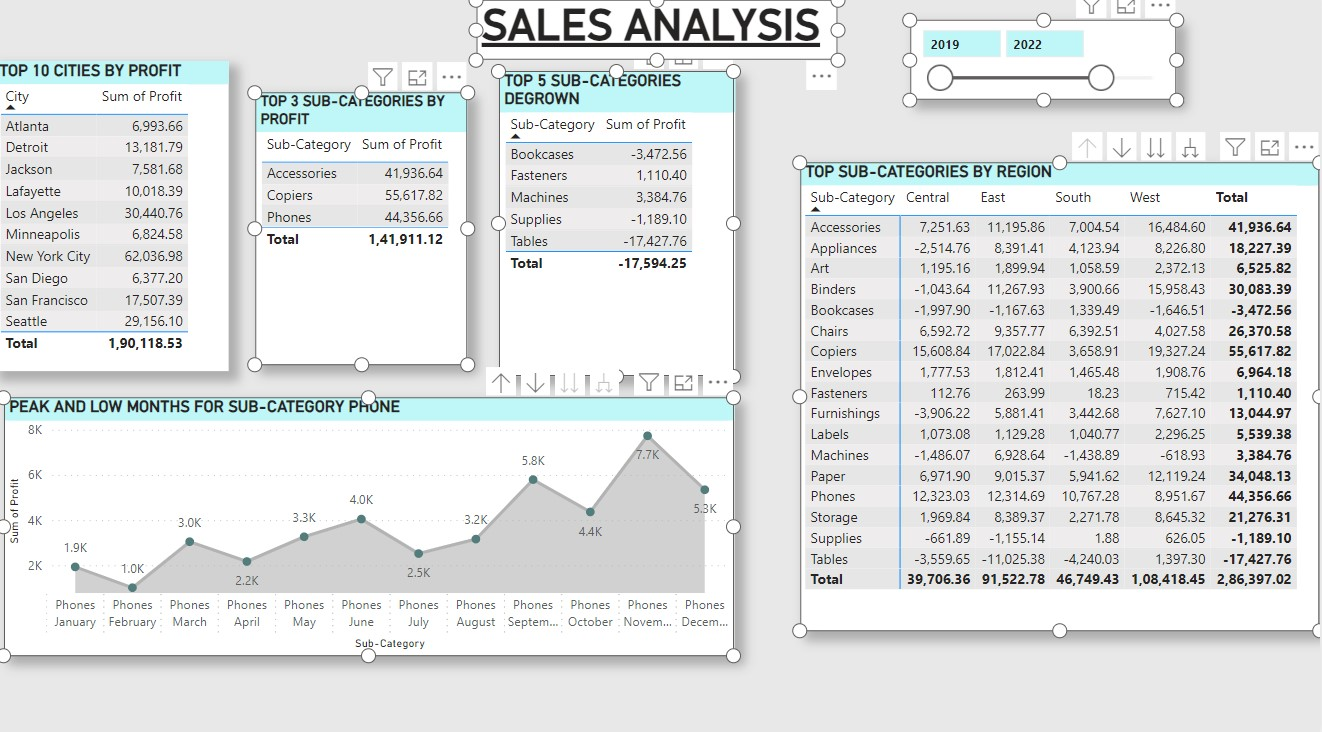

What the dashboard file says about the page in this screenshot:
{"tool":"powerbi","page":{"name":"Page 1","canvas":[1280,720],"ordinal":0},"visuals":[{"type":"slicer","fields":{"Values":["Monthly Sales Data.Order Date.Variation.Date Hierarchy.Year"]},"box":[884.4,27.8,256.7,76.7],"z":0},{"type":"tableEx","title":"TOP 10 CITIES BY PROFIT","fields":{"Values":["Monthly Sales Data.City","Sum(Monthly Sales Data.Profit)"]},"box":[0,67.8,226.7,298.9],"z":1000},{"type":"tableEx","title":"TOP 3 SUB-CATEGORIES BY PROFIT","fields":{"Values":["Monthly Sales Data.Sub-Category","Sum(Monthly Sales Data.Profit)"]},"box":[252.2,97.8,204.4,262.2],"z":2000},{"type":"tableEx","title":"TOP 5 SUB-CATEGORIES DEGROWN","fields":{"Values":["Monthly Sales Data.Sub-Category","Sum(Monthly Sales Data.Profit)"]},"box":[486.7,76.7,227.8,294.4],"z":3000},{"type":"areaChart","title":"PEAK AND LOW MONTHS FOR SUB-CATEGORY PHONE","fields":{"Y":["Sum(Monthly Sales Data.Profit)"],"Category":["Monthly Sales Data.Order Date.Variation.Date Hierarchy.Month","Monthly Sales Data.Sub-Category"]},"box":[10,392.2,704.4,248.9],"z":4000},{"type":"pivotTable","title":"TOP SUB-CATEGORIES BY REGION","fields":{"Rows":["Monthly Sales Data.Sub-Category"],"Columns":["Monthly Sales Data.Region","Monthly Sales Data.Profit"],"Values":["Sum(Monthly Sales Data.Profit)"]},"box":[777.9,165.2,501.7,452.3],"z":5000},{"type":"textbox","title":"SALES ANALYSIS","box":[465.6,8.9,348.9,57.8],"z":6000}]}

Visuals, with their boxes on the page's 1280x720 design canvas (x1, y1, x2, y2). These are canvas units, not pixel positions in the 1322x732 screenshot, which may show the page scaled, cropped or inside an application window:
slicer - Monthly Sales Data.Order Date.Variation.Date Hierarchy.Year: region(884, 28, 1141, 104)
"TOP 10 CITIES BY PROFIT" tableEx: region(0, 68, 227, 367)
"TOP 3 SUB-CATEGORIES BY PROFIT" tableEx: region(252, 98, 457, 360)
"TOP 5 SUB-CATEGORIES DEGROWN" tableEx: region(487, 77, 714, 371)
"PEAK AND LOW MONTHS FOR SUB-CATEGORY PHONE" areaChart: region(10, 392, 714, 641)
"TOP SUB-CATEGORIES BY REGION" pivotTable: region(778, 165, 1280, 618)
"SALES ANALYSIS" textbox: region(466, 9, 814, 67)
